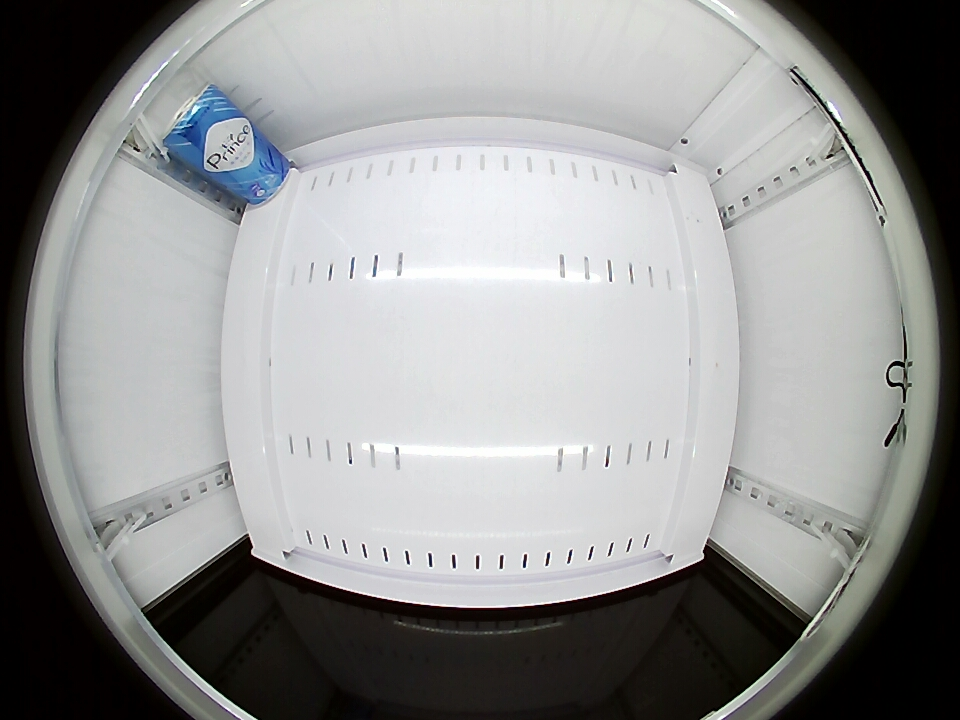qingdaowangzi-2: (162, 84, 230, 165)
